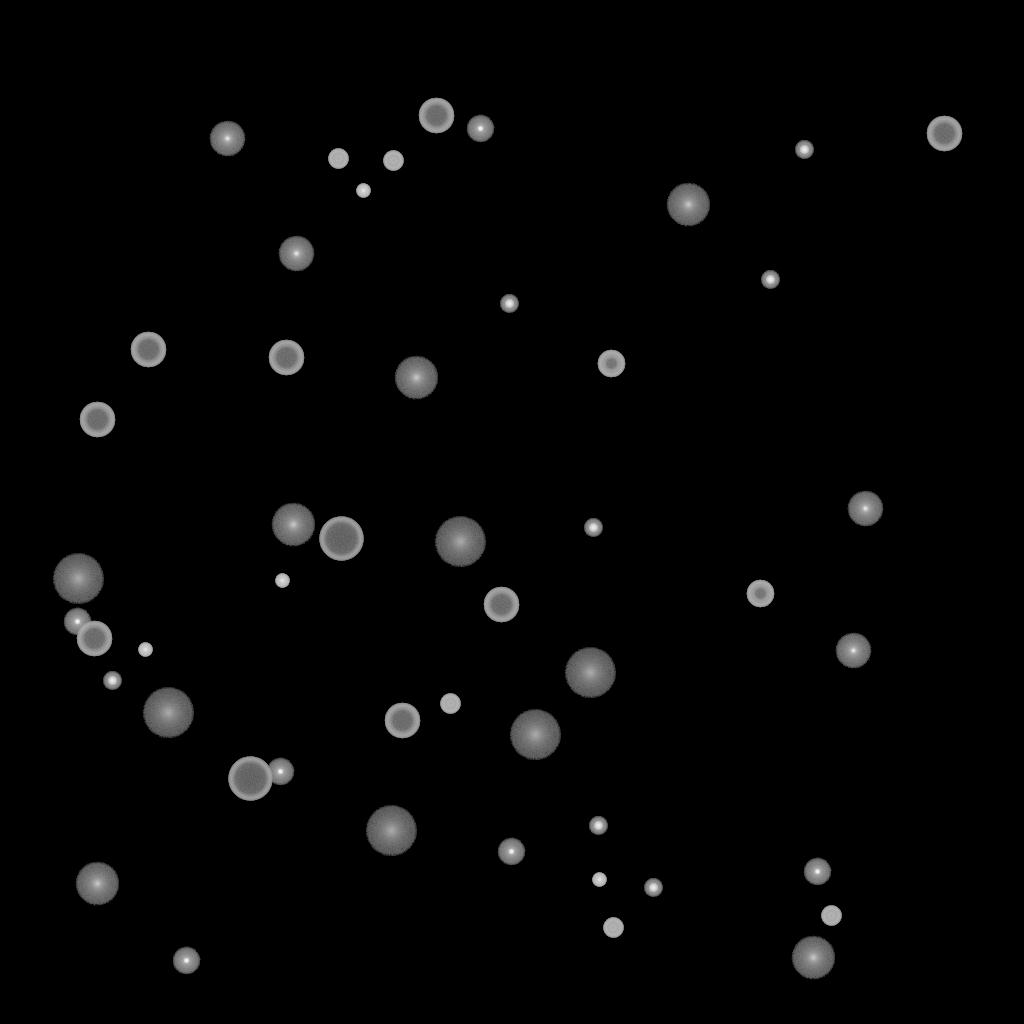depth:-10: (266, 758, 294, 786), (497, 838, 525, 866), (63, 608, 91, 636), (172, 947, 200, 975), (803, 858, 831, 886), (466, 115, 494, 143)
depth:-20: (103, 672, 121, 690), (500, 295, 518, 313), (589, 817, 607, 835), (644, 879, 662, 897), (795, 141, 813, 159), (584, 519, 602, 537), (761, 271, 779, 289)
depth:-30: (592, 873, 606, 887), (138, 643, 152, 657), (356, 184, 370, 198), (275, 574, 289, 588)
depth:-40: (603, 918, 623, 938), (328, 149, 348, 169), (440, 694, 460, 714), (383, 151, 403, 171), (821, 906, 841, 926)
depth:-50: (597, 350, 625, 378), (746, 580, 774, 608)
depth:-60: (384, 703, 420, 739), (76, 621, 112, 657), (926, 116, 962, 152), (483, 587, 519, 623), (268, 340, 304, 376), (130, 332, 166, 368), (418, 98, 454, 134), (79, 402, 115, 438)
depth:-70: (319, 517, 363, 561), (228, 757, 272, 801)
depth:0: (209, 121, 245, 157), (278, 236, 314, 272), (847, 491, 883, 527), (835, 633, 871, 669)
depth:10: (791, 936, 835, 980), (394, 356, 438, 400), (666, 183, 710, 227), (75, 862, 119, 906), (271, 503, 315, 547)
depth:20: (509, 710, 561, 760), (564, 648, 616, 698), (142, 688, 194, 738), (434, 517, 486, 567), (365, 806, 417, 856), (52, 554, 104, 604)
